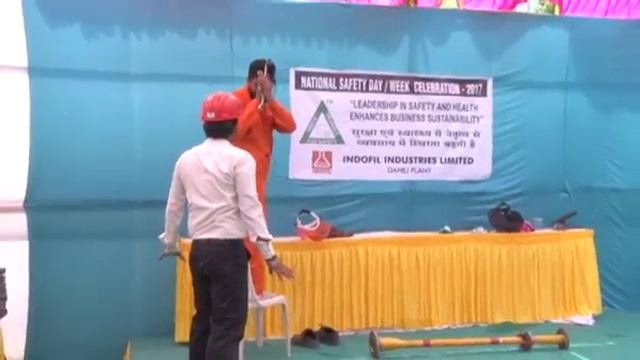helmet: (199, 91, 242, 122)
helmet_off: (247, 59, 276, 98)
helmet_on: (198, 91, 241, 143)
person: (159, 89, 298, 360), (231, 57, 308, 295)
